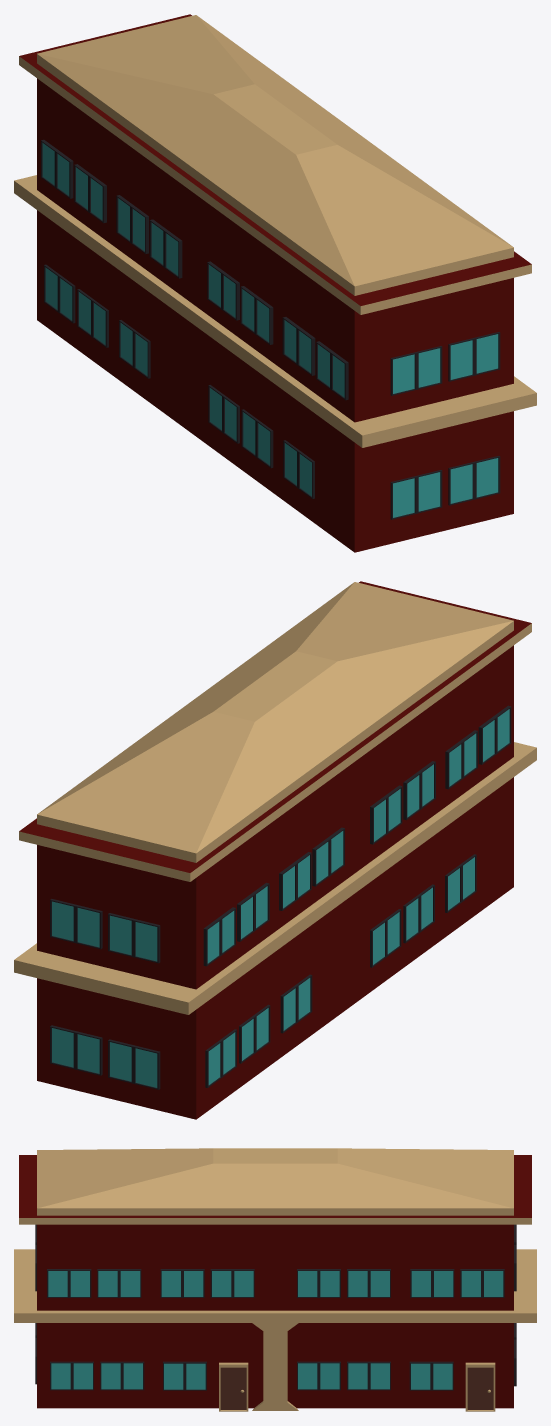
File: apartment2.fbx
The picture shows the model from 3 angles, top to bottom: view 1: azimuth 30°, elevation 25°; view 2: azimuth 150°, elevation 25°; view 3: azimuth 270°, elevation 25°; orthographic projection. The views are drawn at different scales.
Visible parts, largest first — view 1: Cube, Cube.014, Cube.001, Cube.041, Cube.039, Cube.040, Cube.042, Cube.028, Cube.035, Cube.027, Cube.029, Cube.033 (+9 smaller); view 2: Cube, Cube.014, Cube.001, Cube.022, Cube.023, Cube.021, Cube.024, Cube.029, Cube.027, Cube.028, Cube.032, Cube.033 (+9 smaller); view 3: Cube, Cube.014, Cube.001, Cube.006, Cube.020, Cube.010, Cube.011, Cube.017, Cube.019, Cube.008, Cube.009, Cube.003 (+9 smaller).
Part boxes in pixels (left/top/right/bottom): Cube: left=19, top=14, right=531, bottom=552; Cube.014: left=37, top=15, right=513, bottom=295; Cube.001: left=14, top=56, right=536, bottom=447; Cube.041: left=390, top=470, right=442, bottom=519; Cube.039: left=390, top=346, right=442, bottom=395; Cube.040: left=448, top=332, right=500, bottom=381; Cube.042: left=448, top=456, right=500, bottom=505; Cube.028: left=282, top=317, right=315, bottom=375; Cube.035: left=149, top=219, right=182, bottom=278; Cube.027: left=240, top=286, right=273, bottom=344; Cube.029: left=316, top=341, right=348, bottom=400; Cube.033: left=74, top=164, right=106, bottom=223; Cube: left=19, top=581, right=531, bottom=1119; Cube.014: left=37, top=582, right=513, bottom=862; Cube.001: left=14, top=623, right=536, bottom=1014; Cube.022: left=108, top=913, right=160, bottom=963; Cube.023: left=50, top=1025, right=102, bottom=1075; Cube.021: left=50, top=899, right=102, bottom=949; Cube.024: left=108, top=1039, right=160, bottom=1089; Cube.029: left=478, top=705, right=511, bottom=764; Cube.027: left=403, top=761, right=435, bottom=820; Cube.028: left=445, top=730, right=477, bottom=789; Cube.032: left=203, top=907, right=235, bottom=966; Cube.033: left=237, top=882, right=269, bottom=941; Cube: left=19, top=1155, right=531, bottom=1408; Cube.014: left=37, top=1148, right=513, bottom=1215; Cube.001: left=14, top=1218, right=536, bottom=1410; Cube.006: left=409, top=1361, right=453, bottom=1390; Cube.020: left=100, top=1361, right=144, bottom=1390; Cube.010: left=297, top=1361, right=340, bottom=1390; Cube.011: left=347, top=1361, right=390, bottom=1390; Cube.017: left=163, top=1361, right=206, bottom=1390; Cube.019: left=50, top=1361, right=93, bottom=1390; Cube.008: left=410, top=1269, right=454, bottom=1297; Cube.009: left=460, top=1269, right=504, bottom=1297; Cube.003: left=47, top=1269, right=91, bottom=1297.
Bounding box in the file's own units: 738 × 1207 × 2549.
Materials: 4 (1 with a texture image).
